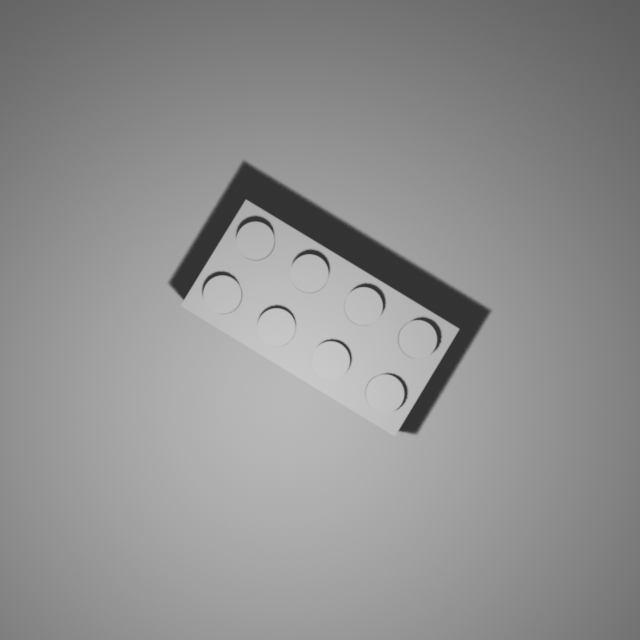lego_2x4: (179, 197, 461, 438)
